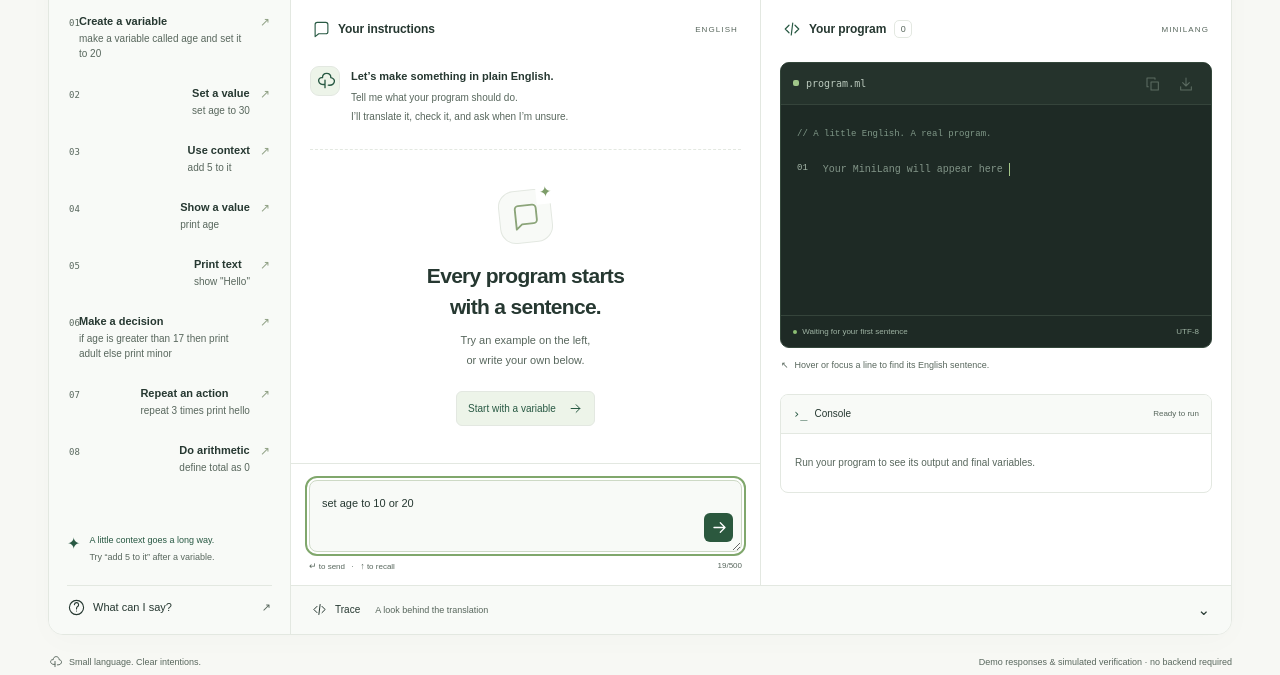
Test: workspace › answers options and free text, and inserts a rejected rewrite
The image size is (1280, 675).
Earlier steps of the test are not shown.
(page scrolled)
Press Enter
(page scrolled)
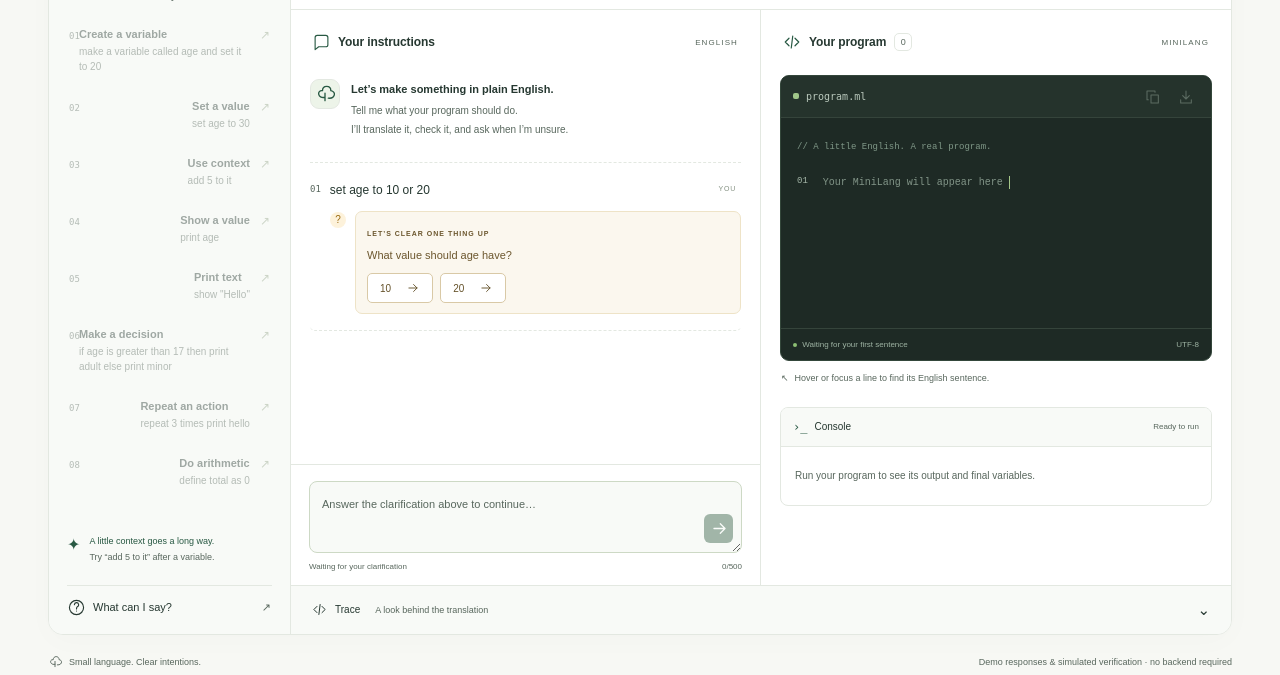
Click the button "20" at [473, 288], box top-left (440, 273), bottom-right (506, 303)
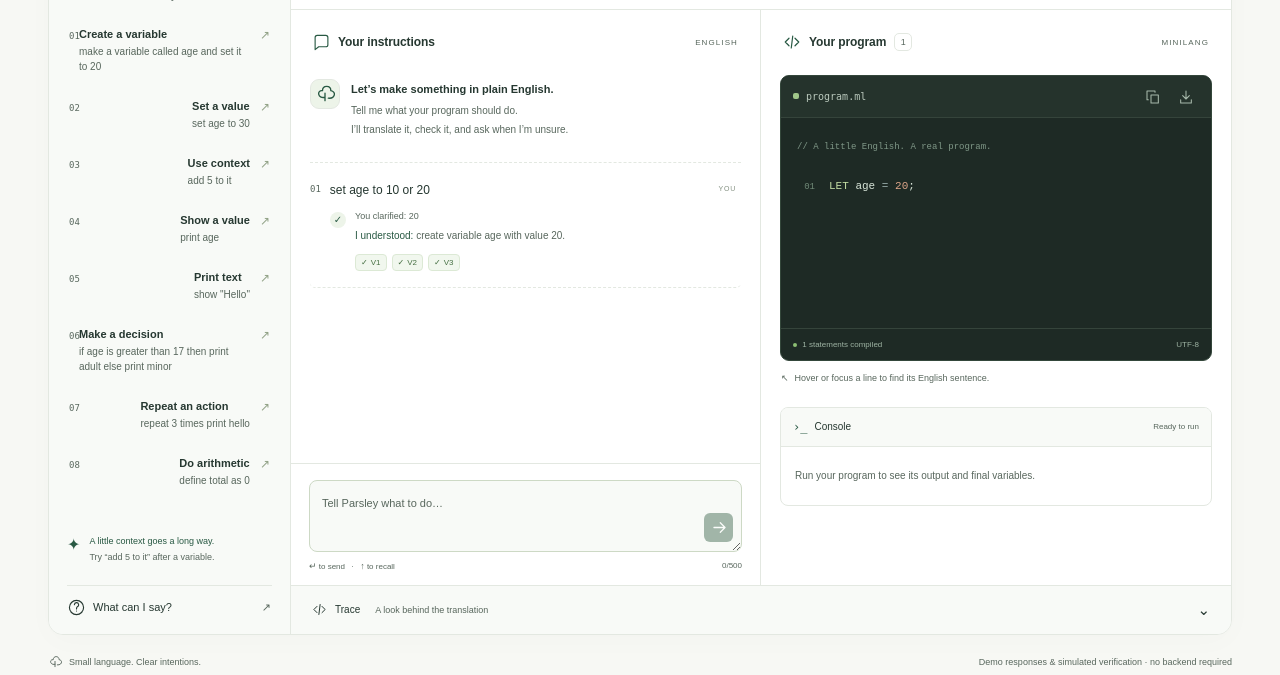
Expected: the button with aria-label "Line 1: LET age = 20;" is shown, top-left (781, 172), bottom-right (1211, 201)
Expected: the text box named "English sentence" is enabled
Type "increase age" into the text box named "English sentence" at [526, 516], box top-left (309, 480), bottom-right (742, 552)
Press Enter
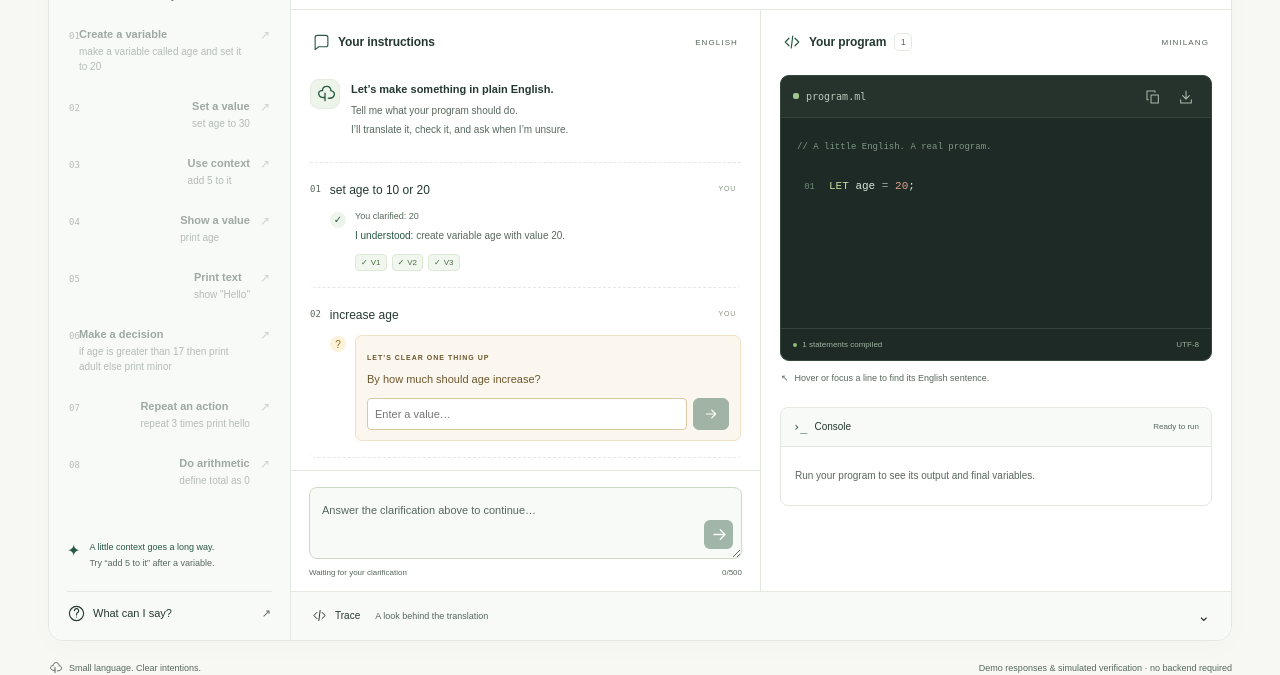
Type "3" into the field named "Clarification answer" at [527, 414], box top-left (367, 398), bottom-right (687, 430)
Then press Enter
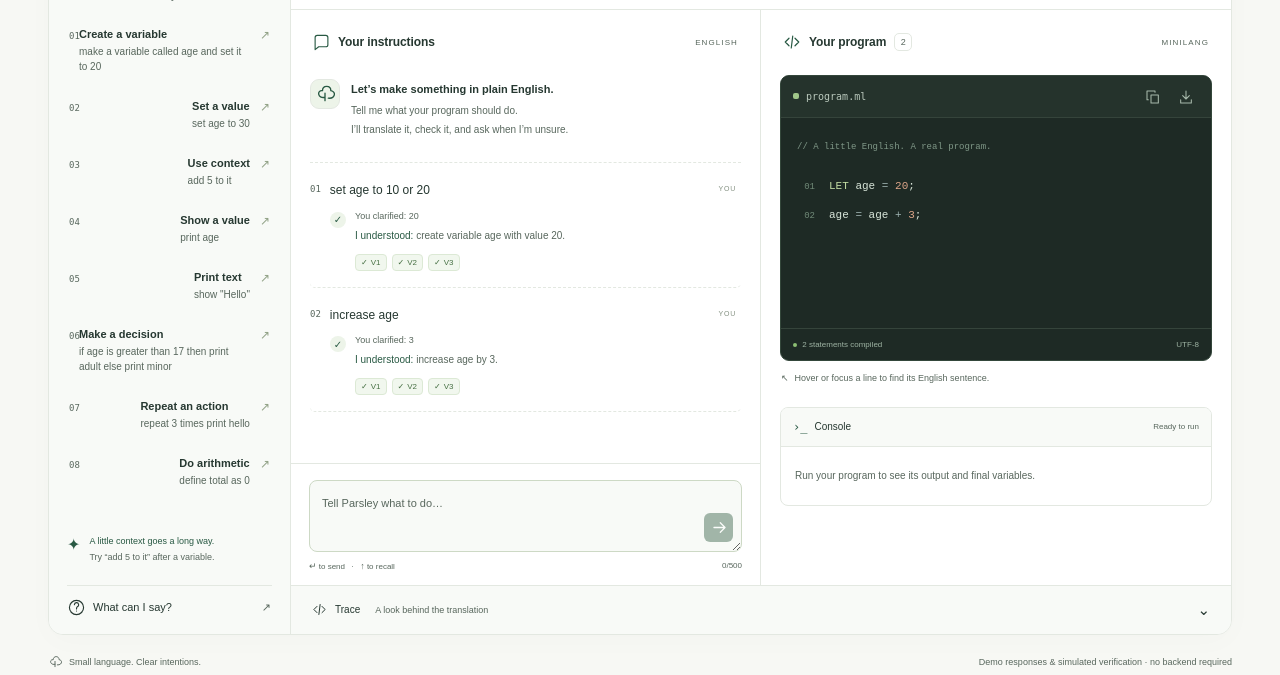
Expected: the button with aria-label "Line 2: age = age + 3;" is shown, top-left (781, 201), bottom-right (1211, 229)
Expected: the text box named "English sentence" is enabled
Type "store 50 in bonus" into the text box named "English sentence" at [526, 516], box top-left (309, 480), bottom-right (742, 552)
Press Enter
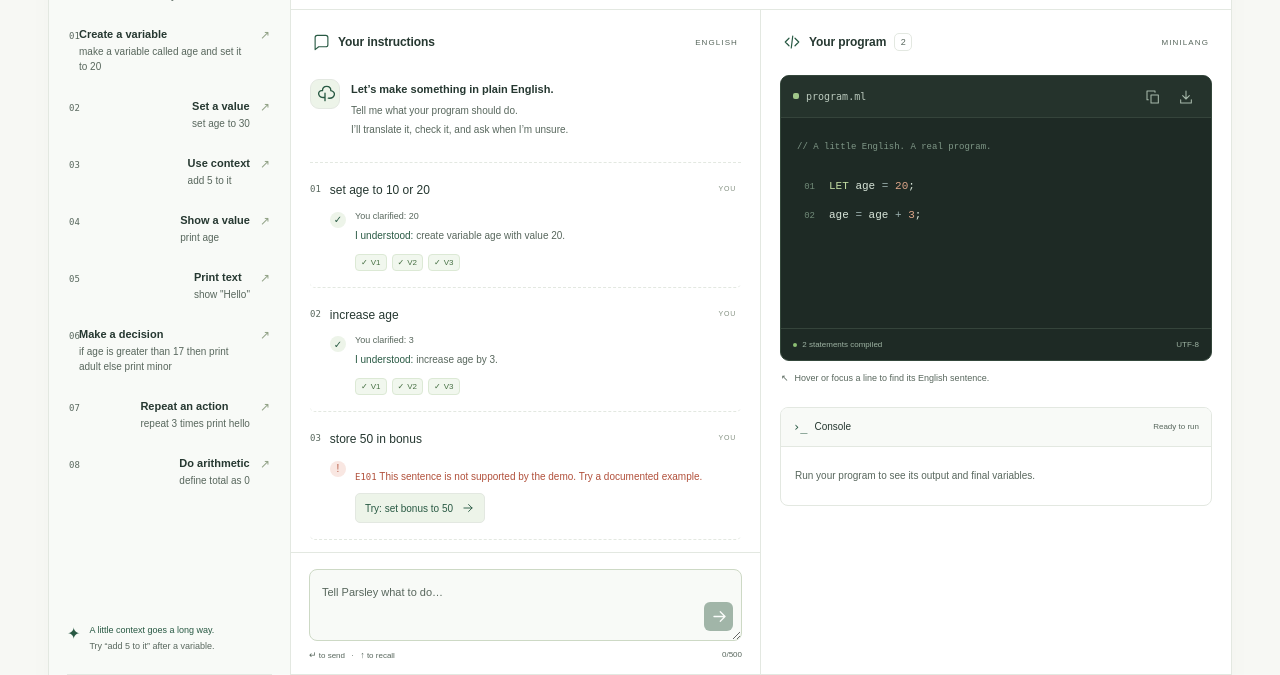
Click the button "Try: set bonus to 50" at [420, 508], box top-left (355, 493), bottom-right (485, 523)
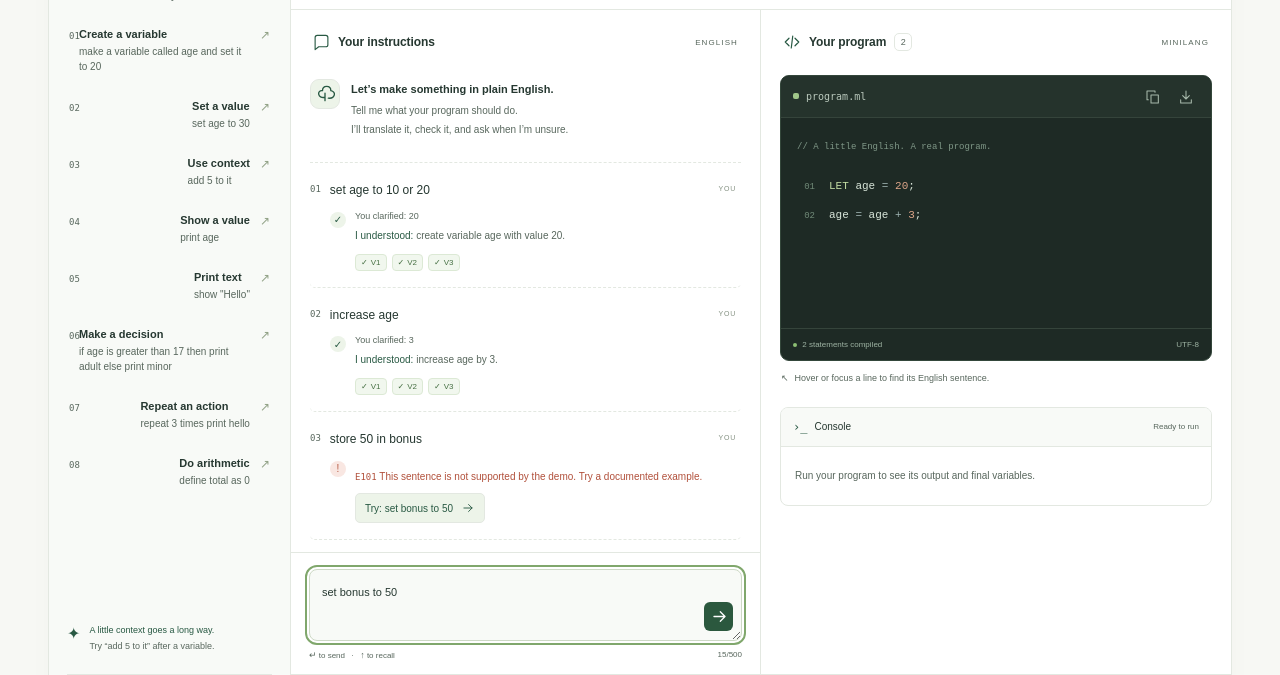
Expected: the text box named "English sentence" holds "set bonus to 50", top-left (309, 569), bottom-right (742, 641)
